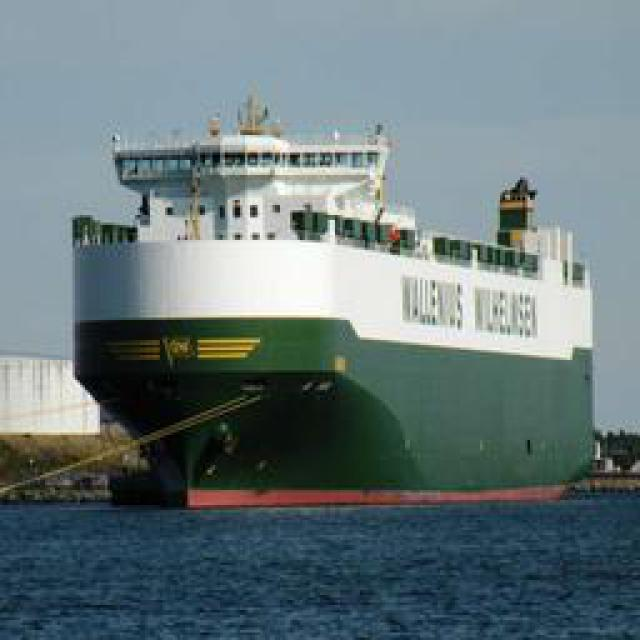Ship: (67, 115, 597, 500)
